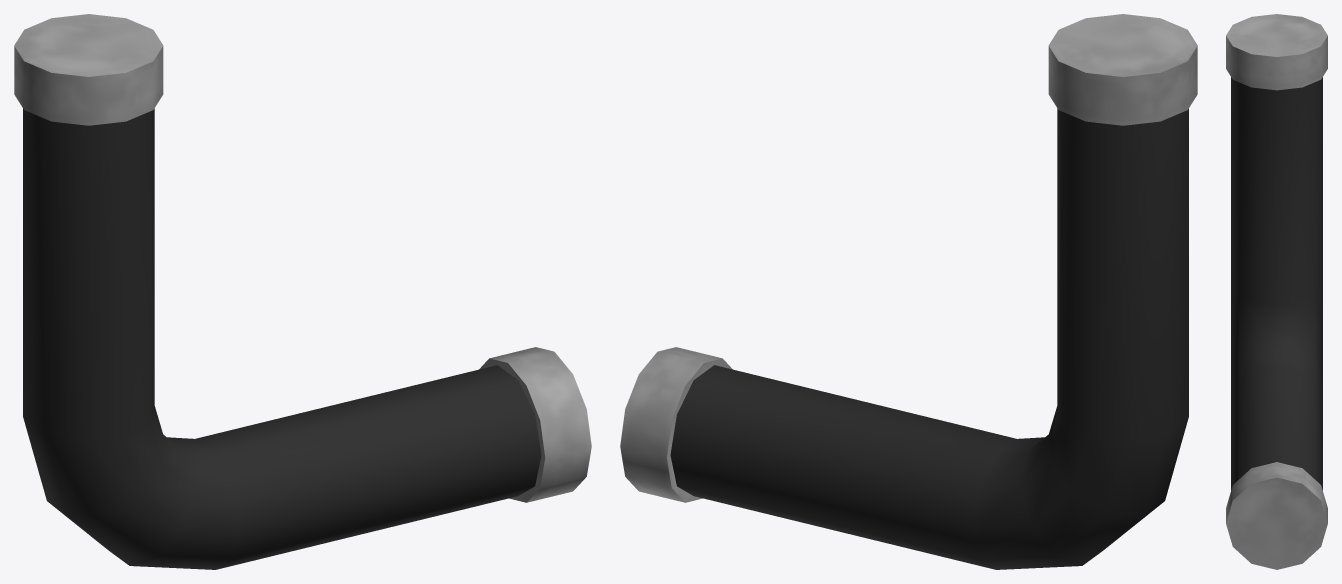
File: Rigid_Conduit_1X_Curve.fbx
3 renders of one model, left to right at view 1: azimuth 30°, elevation 25°; view 2: azimuth 150°, elevation 25°; view 3: azimuth 270°, elevation 25°, orthographic. The views are drawn at different scales.
Visible parts, largest first — view 1: Rigid_Conduit_1X_Curve; view 2: Rigid_Conduit_1X_Curve; view 3: Rigid_Conduit_1X_Curve.
Boxes of the visible parts, x1,y1,x2,y2 form: Rigid_Conduit_1X_Curve: [14, 14, 591, 569]; Rigid_Conduit_1X_Curve: [620, 14, 1197, 569]; Rigid_Conduit_1X_Curve: [1226, 14, 1327, 569].
Bounding box in the file's own units: 0.2278 × 0.2278 × 0.0555.
